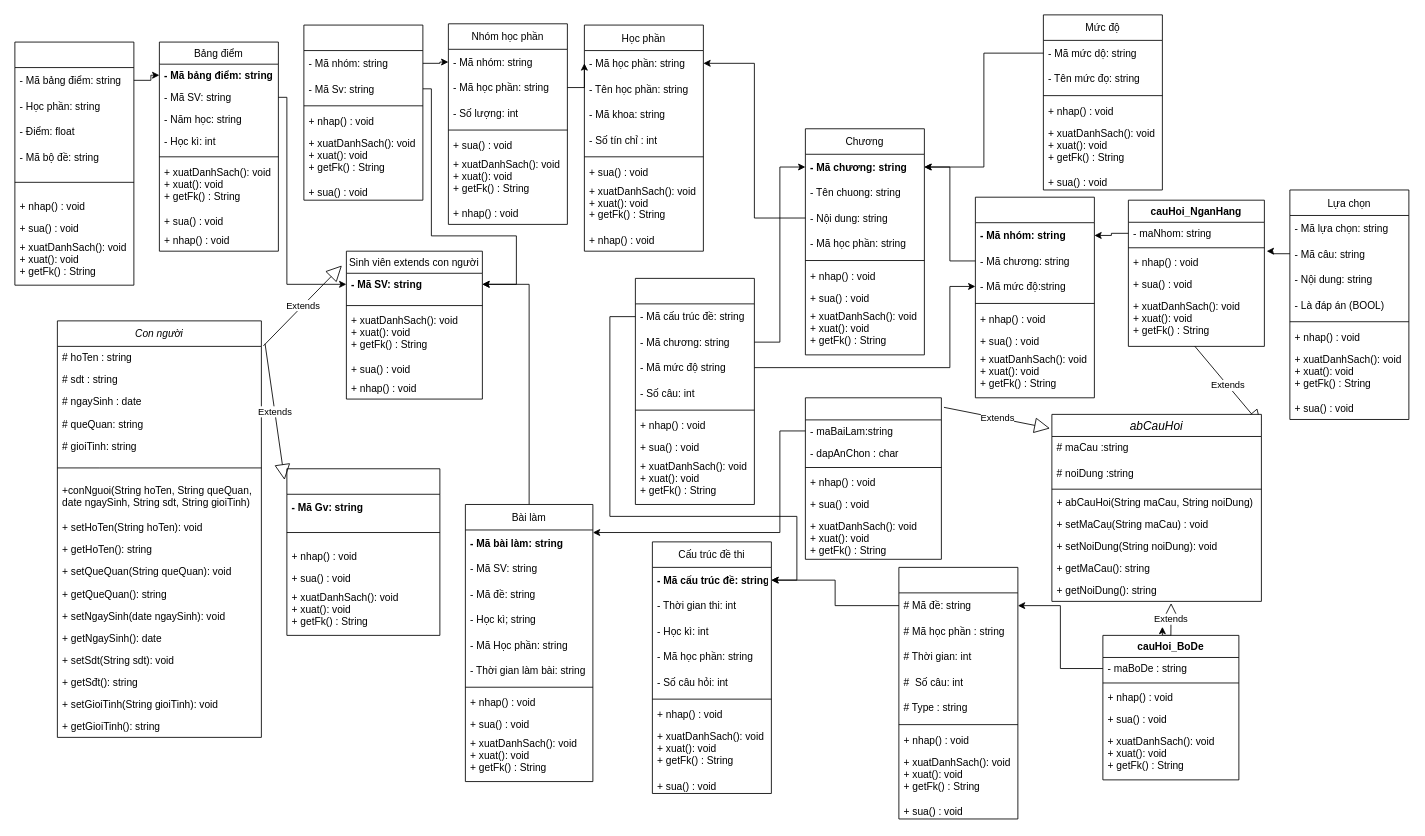
The diagram is 1425 pixels wide and 836 high, and some of its shapes have lost their labels. The box of each missing label's shape, as (x1, y1, x2, y2) in pixels:
Bộ đề: (898, 567, 1018, 819)
cauHoi_BaiLam: (805, 397, 941, 559)
Chi tiết cấu trúc đề thi: (635, 278, 754, 504)
Chi tiết nhóm: (303, 24, 423, 200)
Chi tiết điểm: (14, 41, 134, 285)
Giảng viên extends con người: (286, 468, 440, 635)
Nhóm câu hỏi: (975, 196, 1094, 398)
